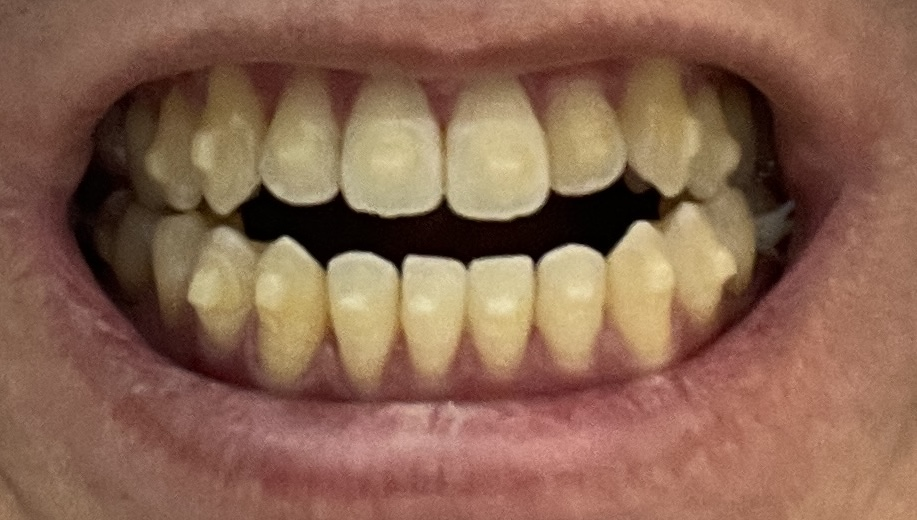teeth: (447, 77, 549, 217), (340, 79, 440, 214), (615, 58, 695, 191), (261, 68, 338, 202), (257, 238, 328, 379), (329, 255, 400, 393), (543, 83, 627, 193), (197, 72, 262, 212), (609, 222, 673, 357), (190, 225, 255, 354), (538, 246, 604, 372), (402, 258, 465, 383), (470, 260, 533, 379), (670, 207, 728, 318), (691, 87, 740, 195), (156, 217, 204, 321), (156, 92, 199, 207), (711, 191, 755, 286), (130, 103, 163, 211), (116, 202, 153, 292)
